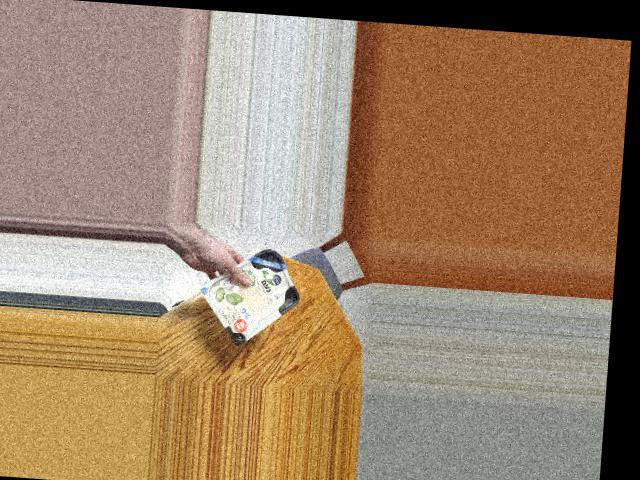cheese: (212, 243, 303, 341)
